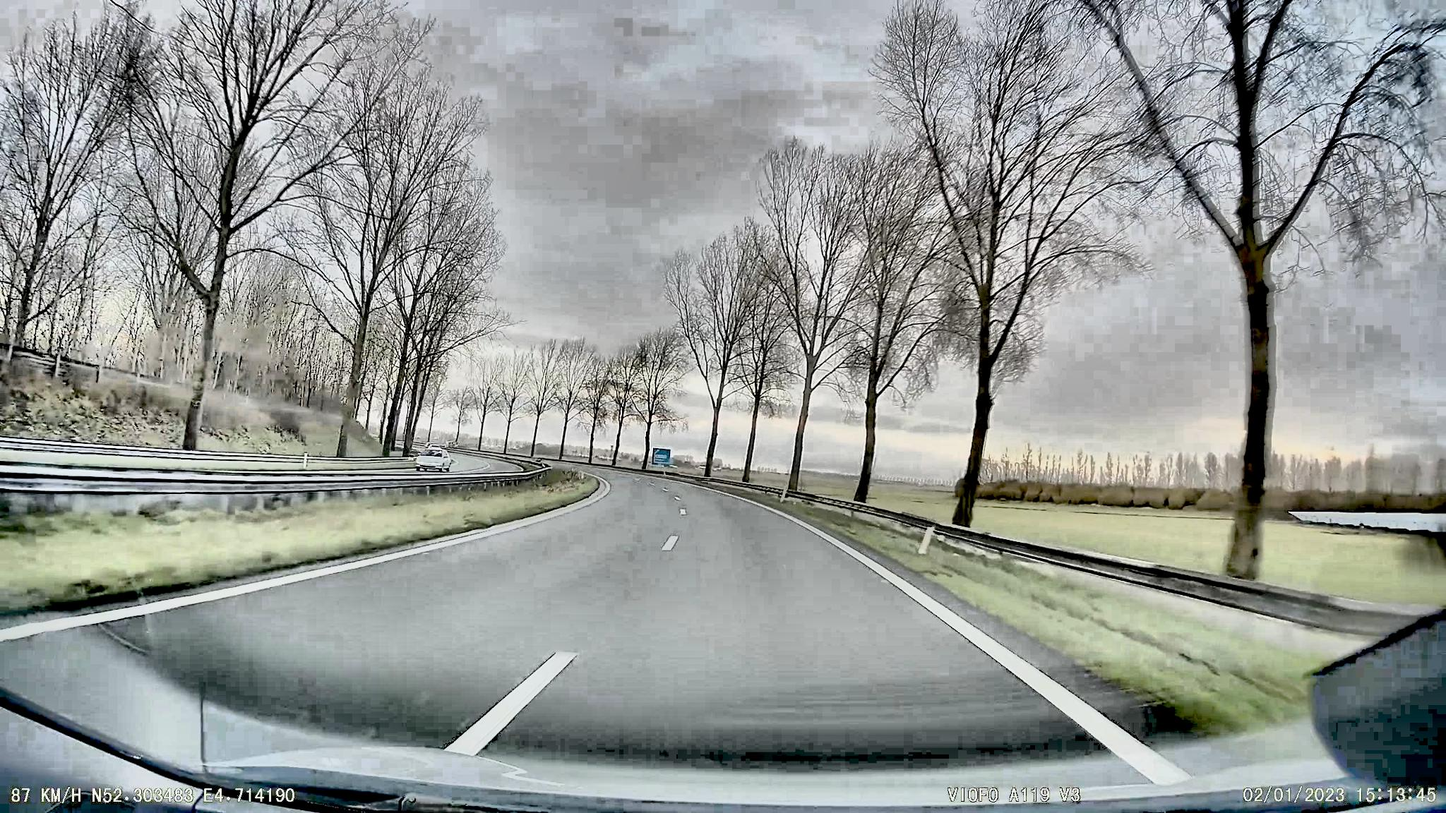Roads: (0, 463, 1149, 813)
